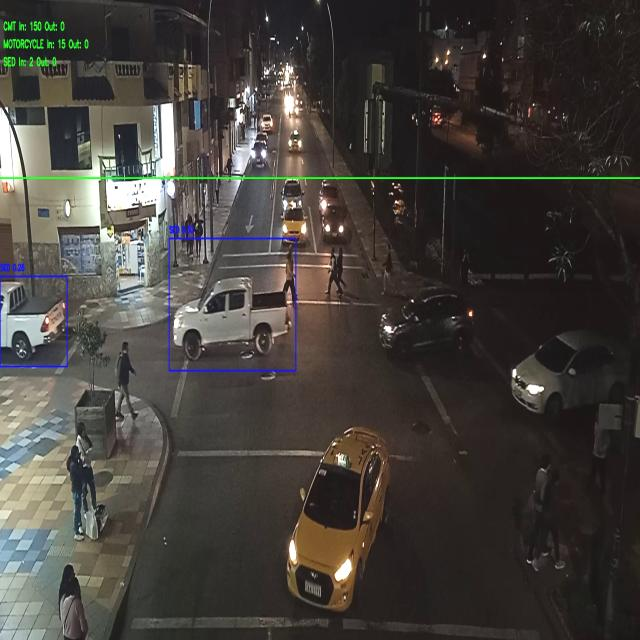CMT: (174, 278, 291, 351), (0, 281, 65, 356)
SED: (287, 436, 388, 609), (513, 329, 623, 409), (283, 210, 305, 246), (323, 208, 343, 240), (290, 134, 300, 152)
SUV: (382, 284, 473, 352), (282, 178, 302, 202), (252, 142, 266, 166), (262, 115, 272, 131)
